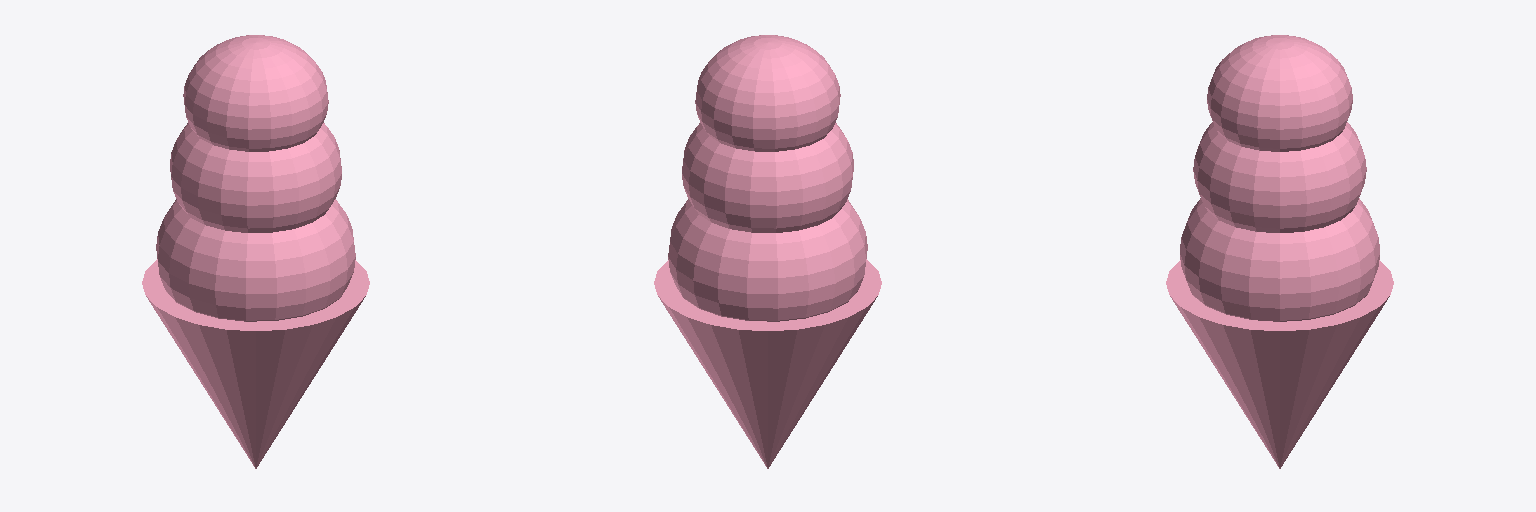
Rendered from gem_type_5.obj.
The picture shows the model from 3 angles: view 1: azimuth 30°, elevation 25°; view 2: azimuth 150°, elevation 25°; view 3: azimuth 270°, elevation 25°; orthographic projection.
Parts seen in each view (by area): view 1: gem_type_5; view 2: gem_type_5; view 3: gem_type_5.
Part boxes in pixels (x1,y1,x2,y2): gem_type_5: (142, 35, 369, 468); gem_type_5: (654, 35, 881, 468); gem_type_5: (1166, 35, 1393, 468).
Bounding box in the file's own units: 0.5 × 1.03 × 0.5.